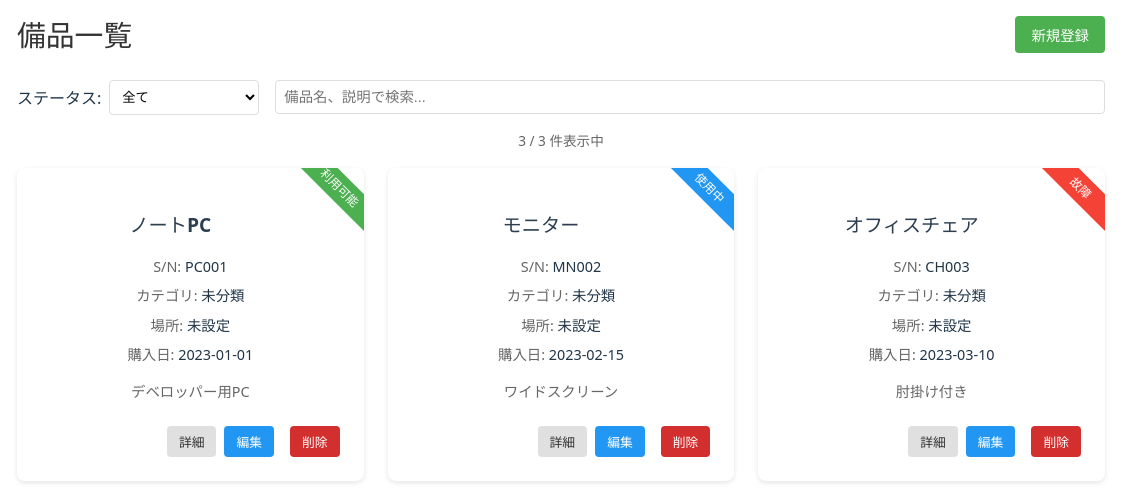
Test: EquipmentList Component › ステータスフィルターが正しく機能する
The width and height of the screenshot is (1123, 501).
Check: the heading "ノートPC" is shown, box [129,211,211,238]
// 「使用中」ステータスでフィルタリング
Select "使用中" in the dropdown labelled "ステータス:": (184,98) [109,80,259,115]
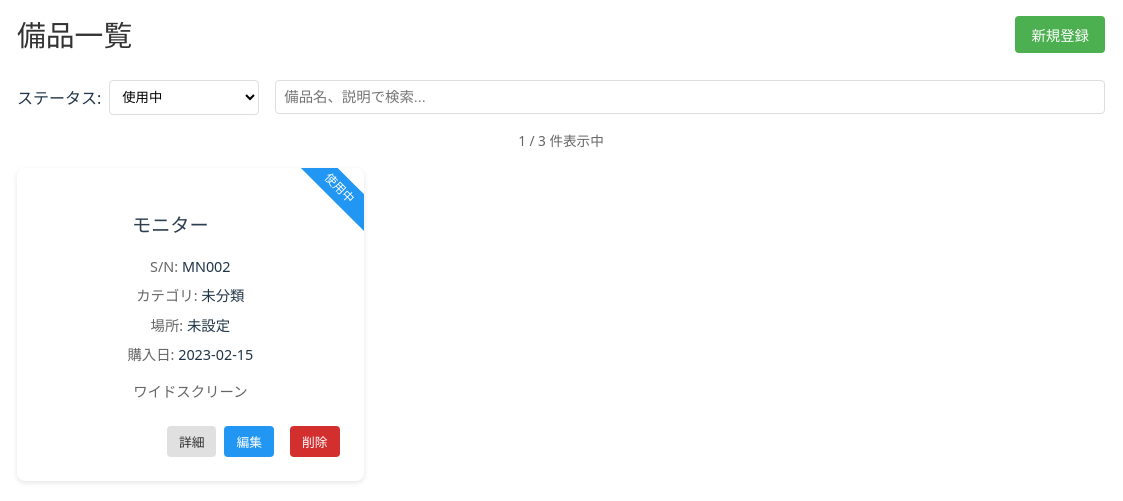
Check: the heading "モニター" is shown, box [132,211,209,238]
Check: the heading "ノートPC" is gone
Check: the heading "オフィスチェア" is gone
